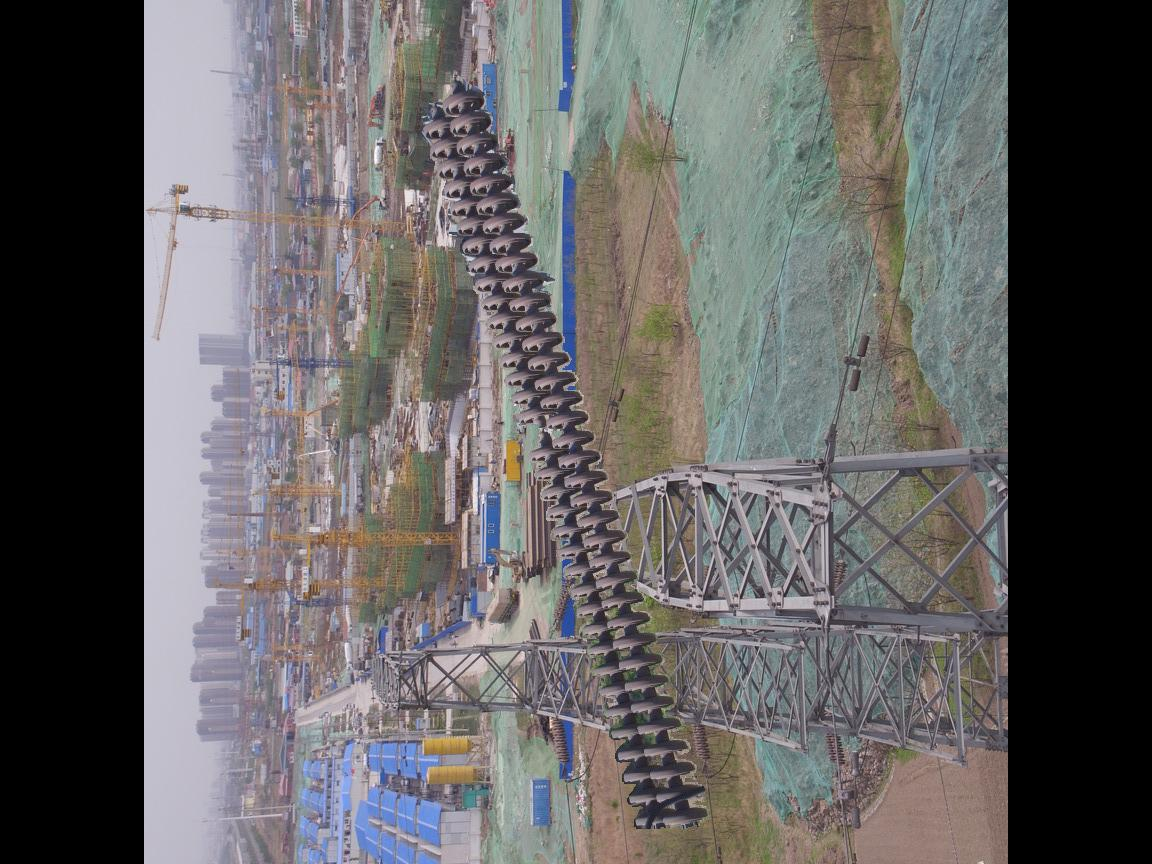insulator: (418, 83, 710, 839), (546, 713, 571, 768), (823, 729, 851, 768), (690, 718, 711, 766)
insulator_stringdrop: (515, 402, 563, 465)
